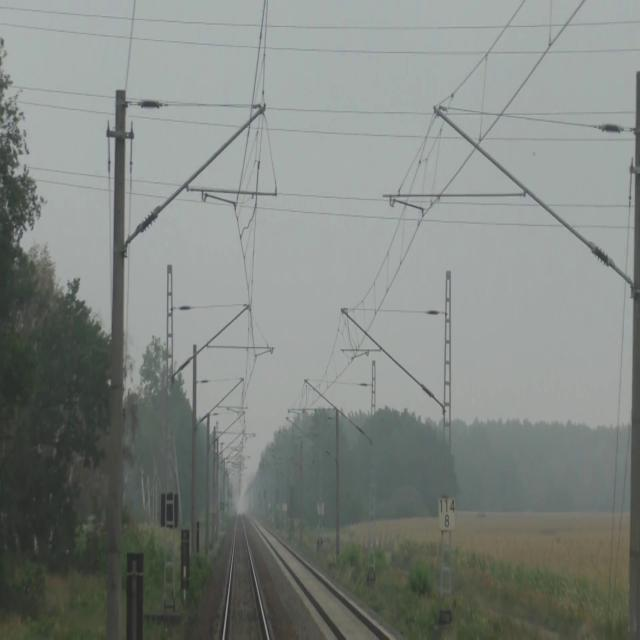rail-track: (281, 548, 383, 639), (227, 527, 264, 639)
